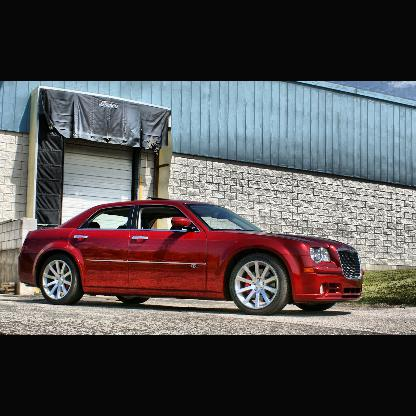Chrysler 300 SRT-8 2010: (17, 199, 367, 321)
